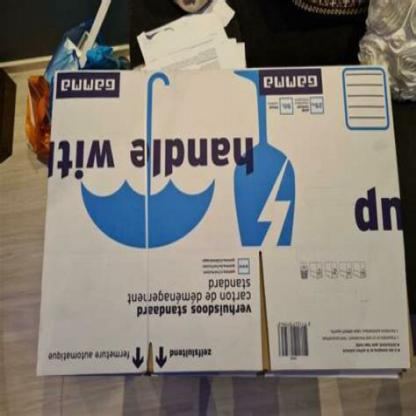box: (36, 67, 412, 381)
